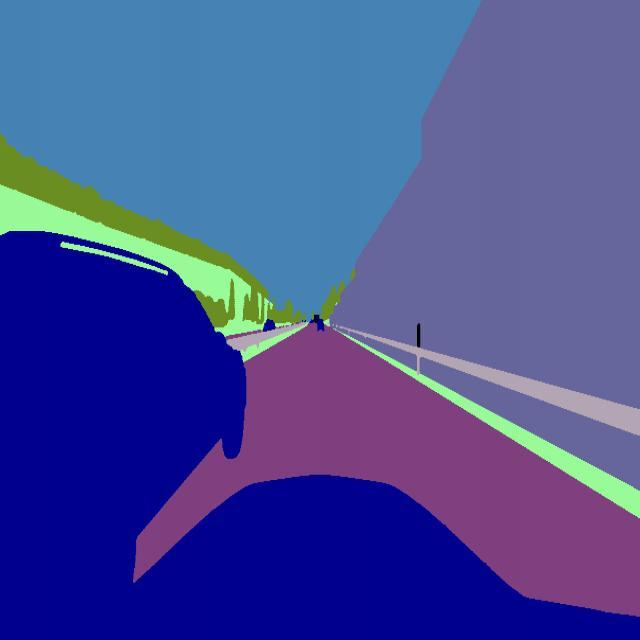unsafe: (0, 219, 250, 640)
